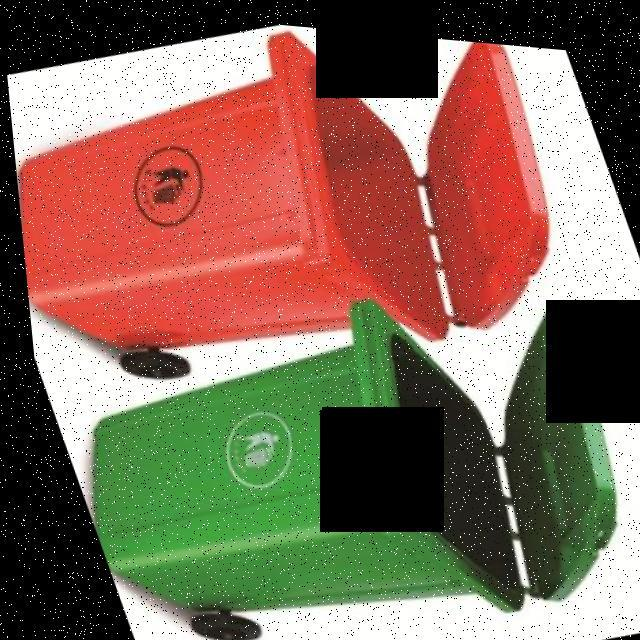bin: (0, 0, 611, 454), (16, 208, 640, 640)
